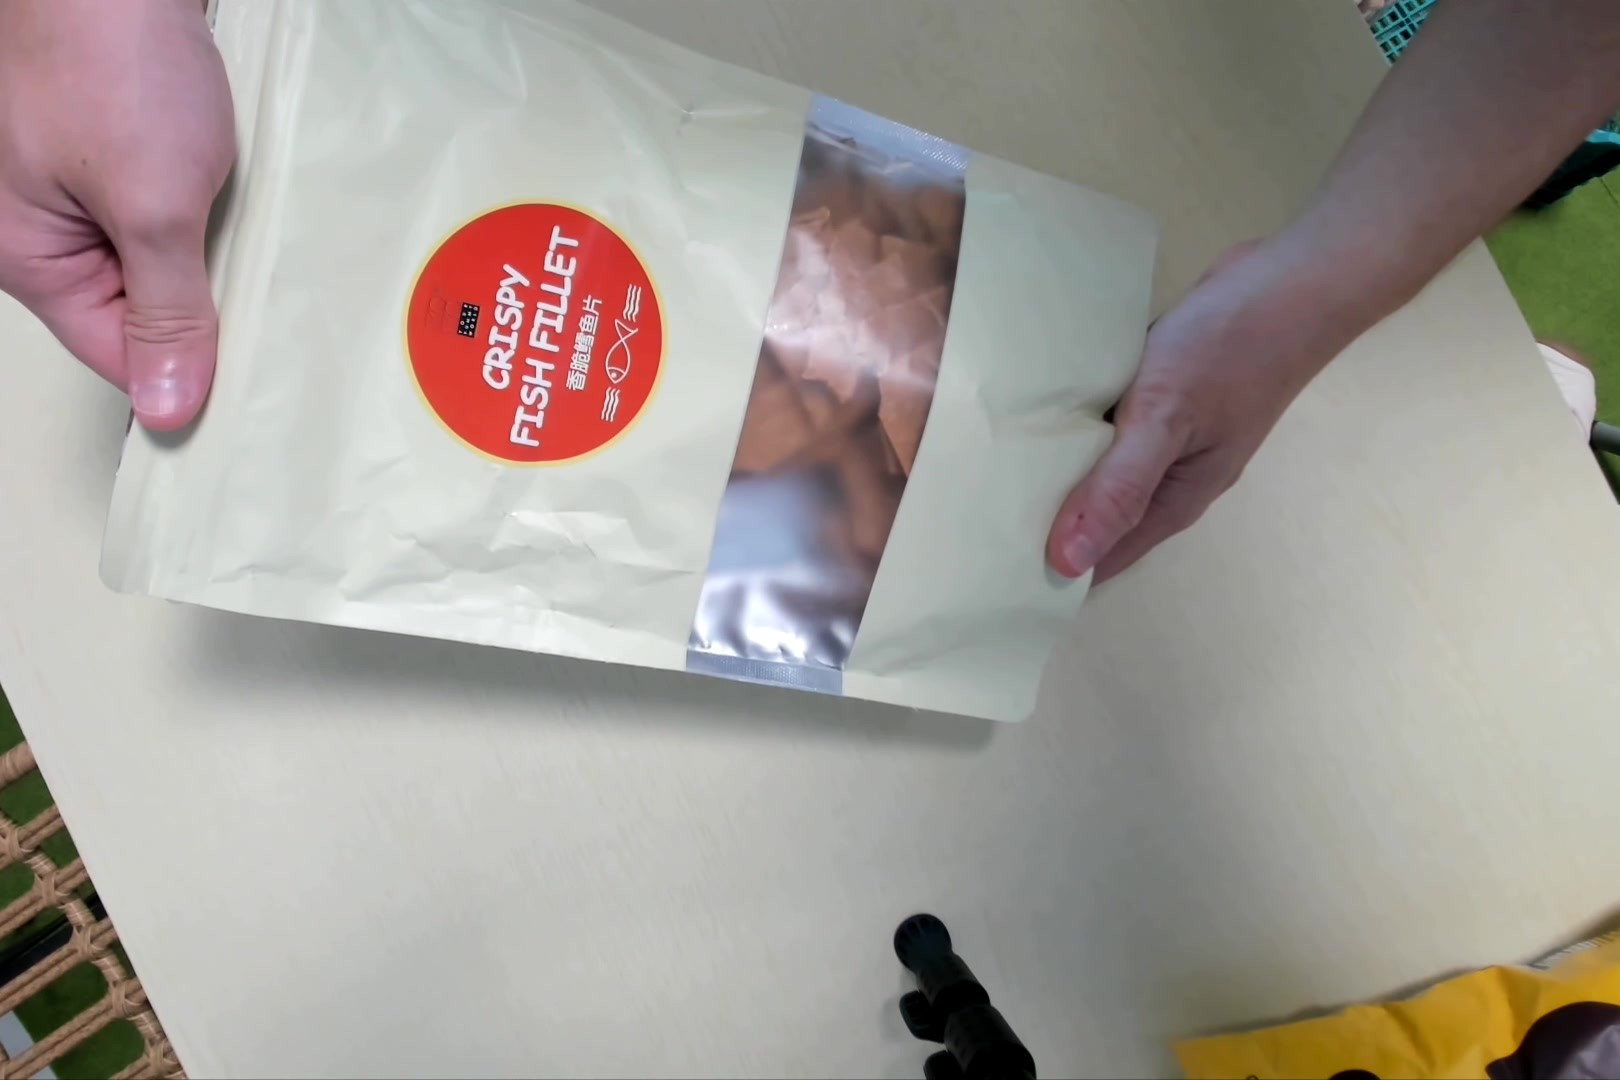PotatoChipsKeropok_100-199g_NonHalal_NonHealthy: (123, 6, 1168, 736)
